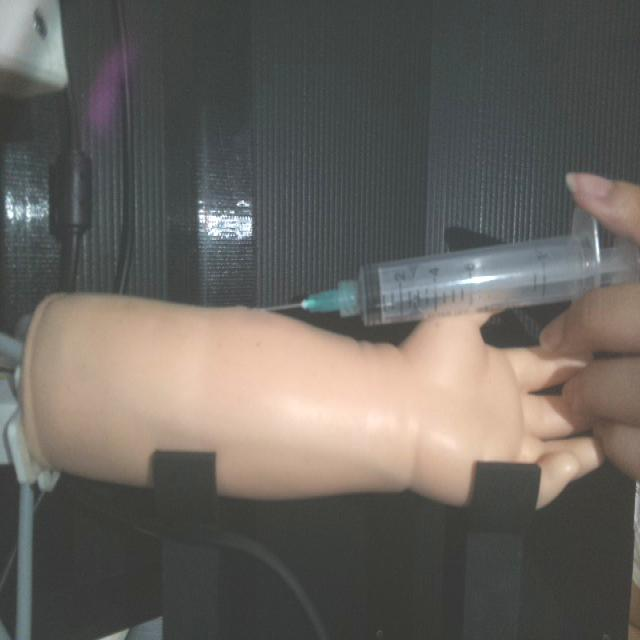Below 15 degrees: (259, 207, 637, 329)
